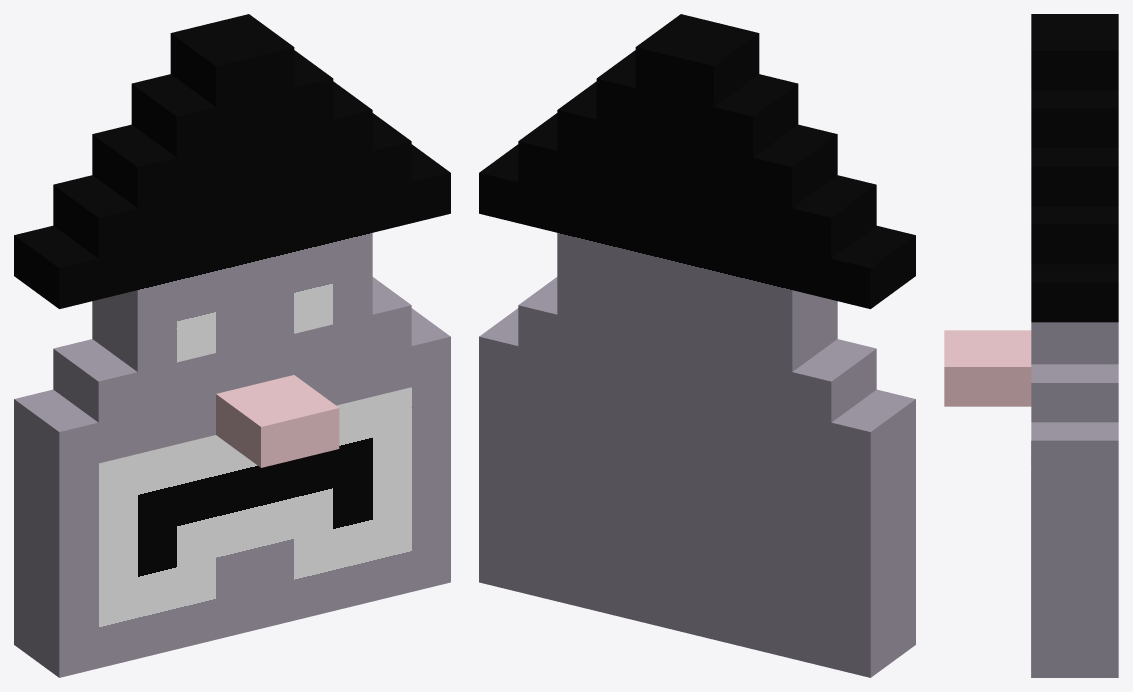
Rendered from SadClownTotem.dae.
The picture shows the model from 3 angles, left to right: view 1: azimuth 30°, elevation 25°; view 2: azimuth 150°, elevation 25°; view 3: azimuth 270°, elevation 25°; orthographic projection. The views are drawn at different scales.
Parts seen in each view (by area): view 1: SadClown; view 2: SadClown; view 3: SadClown.
Boxes of the visible parts, x1,y1,x2,y2 form: SadClown: [14, 14, 450, 677]; SadClown: [479, 14, 915, 677]; SadClown: [944, 14, 1118, 677].
Size of the model in its own units: 10 by 14 by 4.
1 material, 1 textured.
